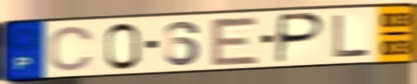0: (104, 21, 143, 71)
6: (164, 20, 203, 67)
C: (47, 25, 97, 73)
E: (208, 16, 262, 68)
L: (331, 13, 372, 58)
P: (273, 11, 327, 65)
